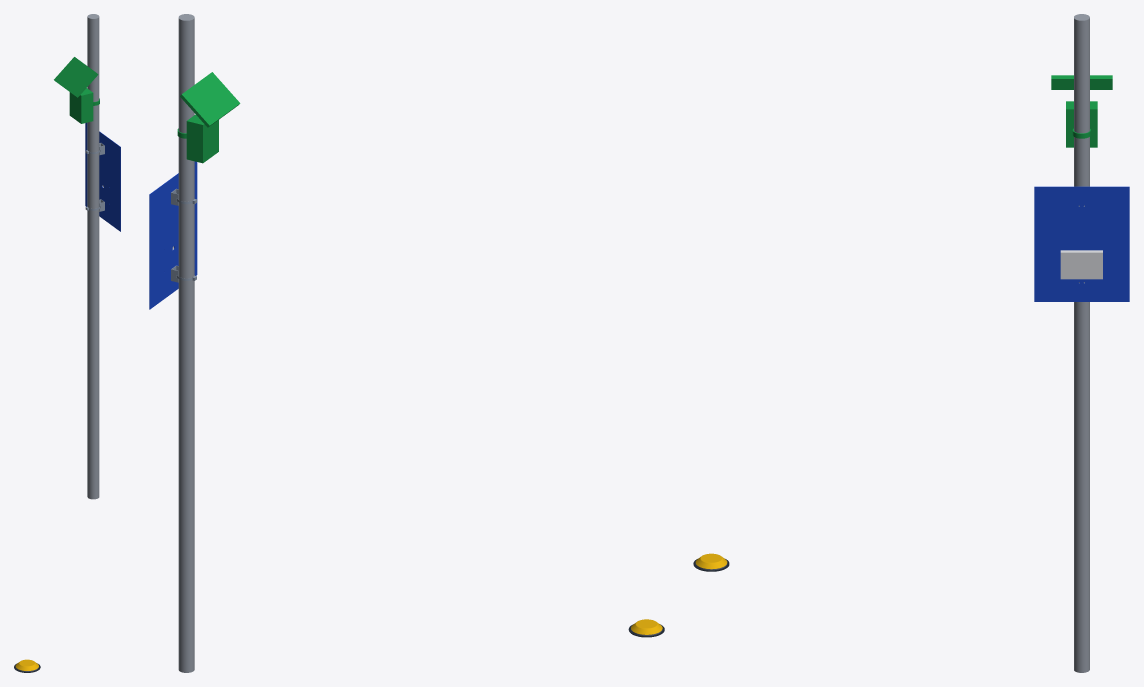
The picture shows the model from 3 angles, left to right: view 1: azimuth 30°, elevation 25°; view 2: azimuth 150°, elevation 25°; view 3: azimuth 270°, elevation 25°; orthographic projection. The views are drawn at different scales.
Visible parts, largest first — view 1: Existing street pole (not supplied), Sign face with legend (option), Host FieldNode (option, costed in FieldNode), Puck dome, cast polyurethane, Sign pole brackets and band clamps (option); view 2: Existing street pole (not supplied), Sign face with legend (option), Host FieldNode (option, costed in FieldNode); view 3: Sign face with legend (option), Existing street pole (not supplied), Host FieldNode (option, costed in FieldNode), E-paper display in window housing (option).
Part boxes in pixels (bbox=[...]): Existing street pole (not supplied): bbox=[87, 14, 99, 499]; Sign face with legend (option): bbox=[85, 122, 120, 231]; Host FieldNode (option, costed in FieldNode): bbox=[54, 57, 99, 123]; Puck dome, cast polyurethane: bbox=[15, 659, 38, 670]; Sign pole brackets and band clamps (option): bbox=[85, 143, 104, 211]; Existing street pole (not supplied): bbox=[178, 14, 194, 672]; Sign face with legend (option): bbox=[149, 161, 197, 309]; Host FieldNode (option, costed in FieldNode): bbox=[177, 72, 240, 163]; Sign face with legend (option): bbox=[1034, 186, 1129, 301]; Existing street pole (not supplied): bbox=[1074, 14, 1089, 672]; Host FieldNode (option, costed in FieldNode): bbox=[1051, 75, 1112, 147]; E-paper display in window housing (option): bbox=[1060, 250, 1102, 279].
Bounding box in the file's own units: 1.68 × 3.55 × 2.06.
